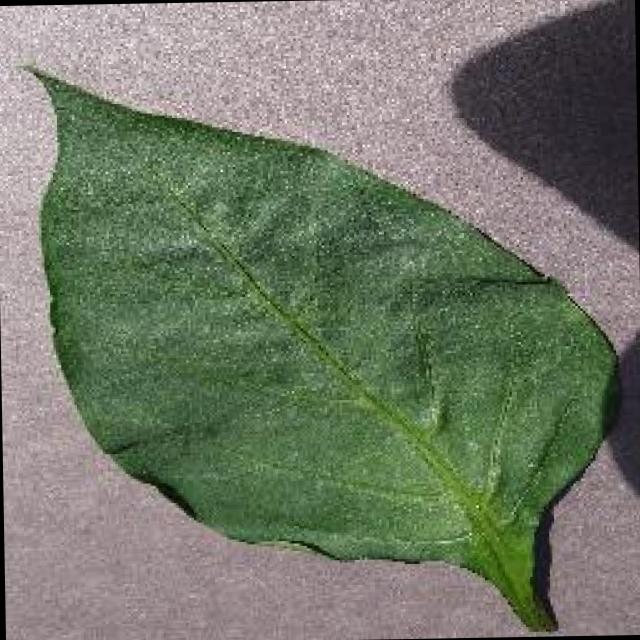Chilli_Healthy: (15, 47, 625, 640)
